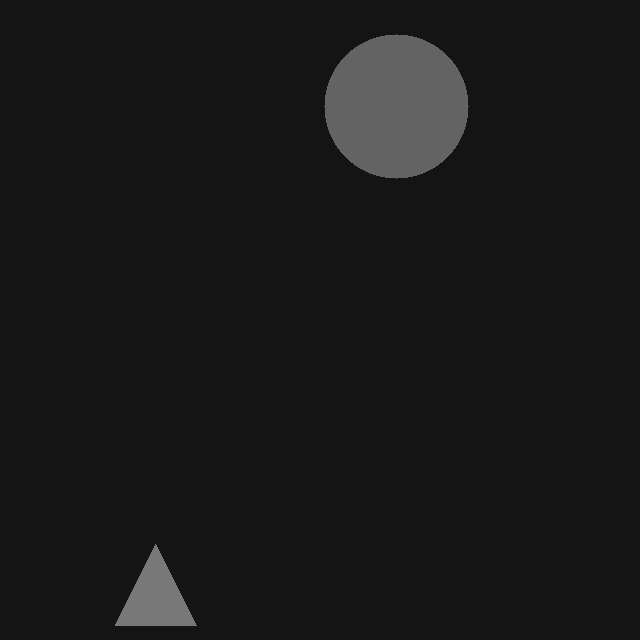circle: (324, 34, 468, 178)
triangle: (115, 544, 196, 625)
